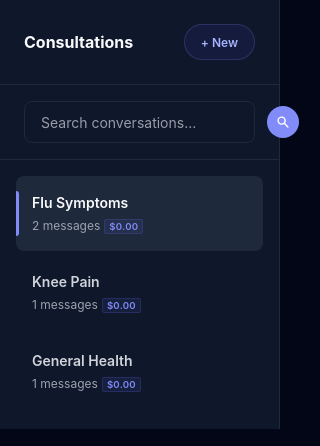
Test case: ConversationSidebar › shows "No conversations found" when there is no match
Type "nonexistent" into the field with placeholder "Search conversations..." at (150, 122), box [33,110,267,134]
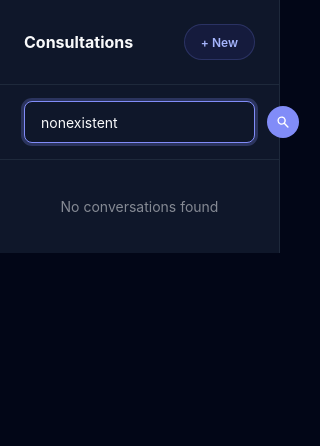
Expected: the text "No conversations found" is shown, [61,198,218,215]
Expected: the button "Flu Symptoms" is gone
